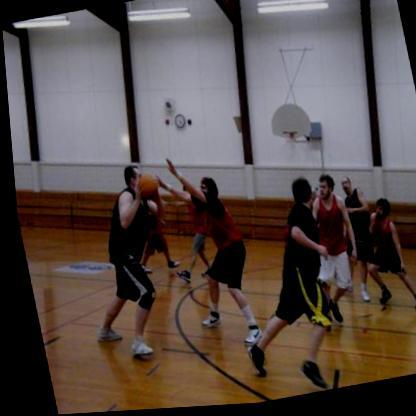basketball: (134, 174, 156, 200)
rim: (280, 132, 296, 140)
